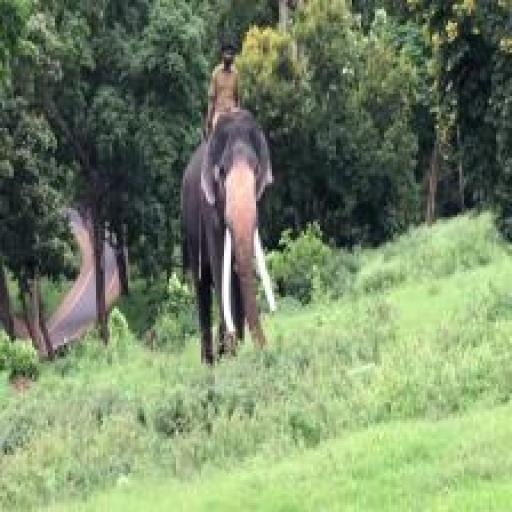Elephant: (176, 105, 287, 378)
